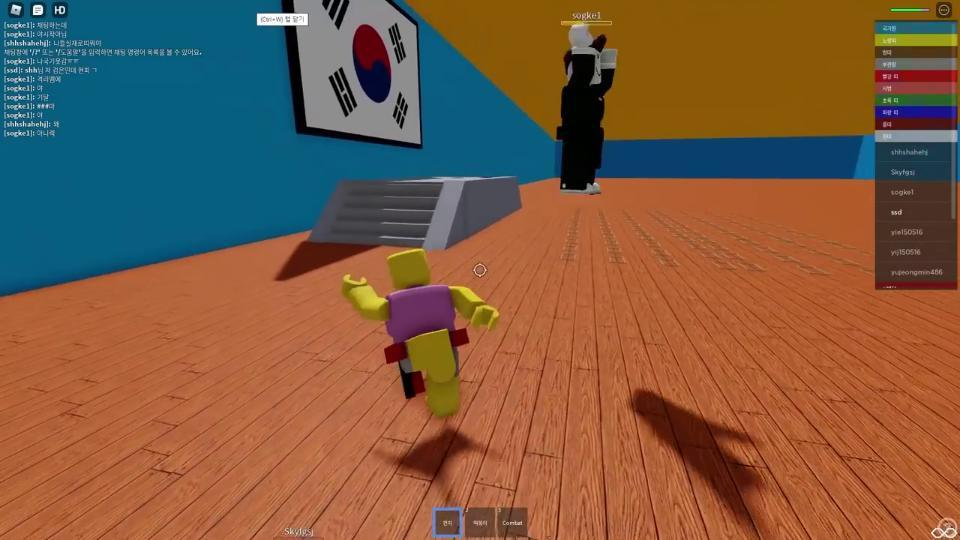Character: (341, 249, 499, 417), (556, 22, 618, 194)
